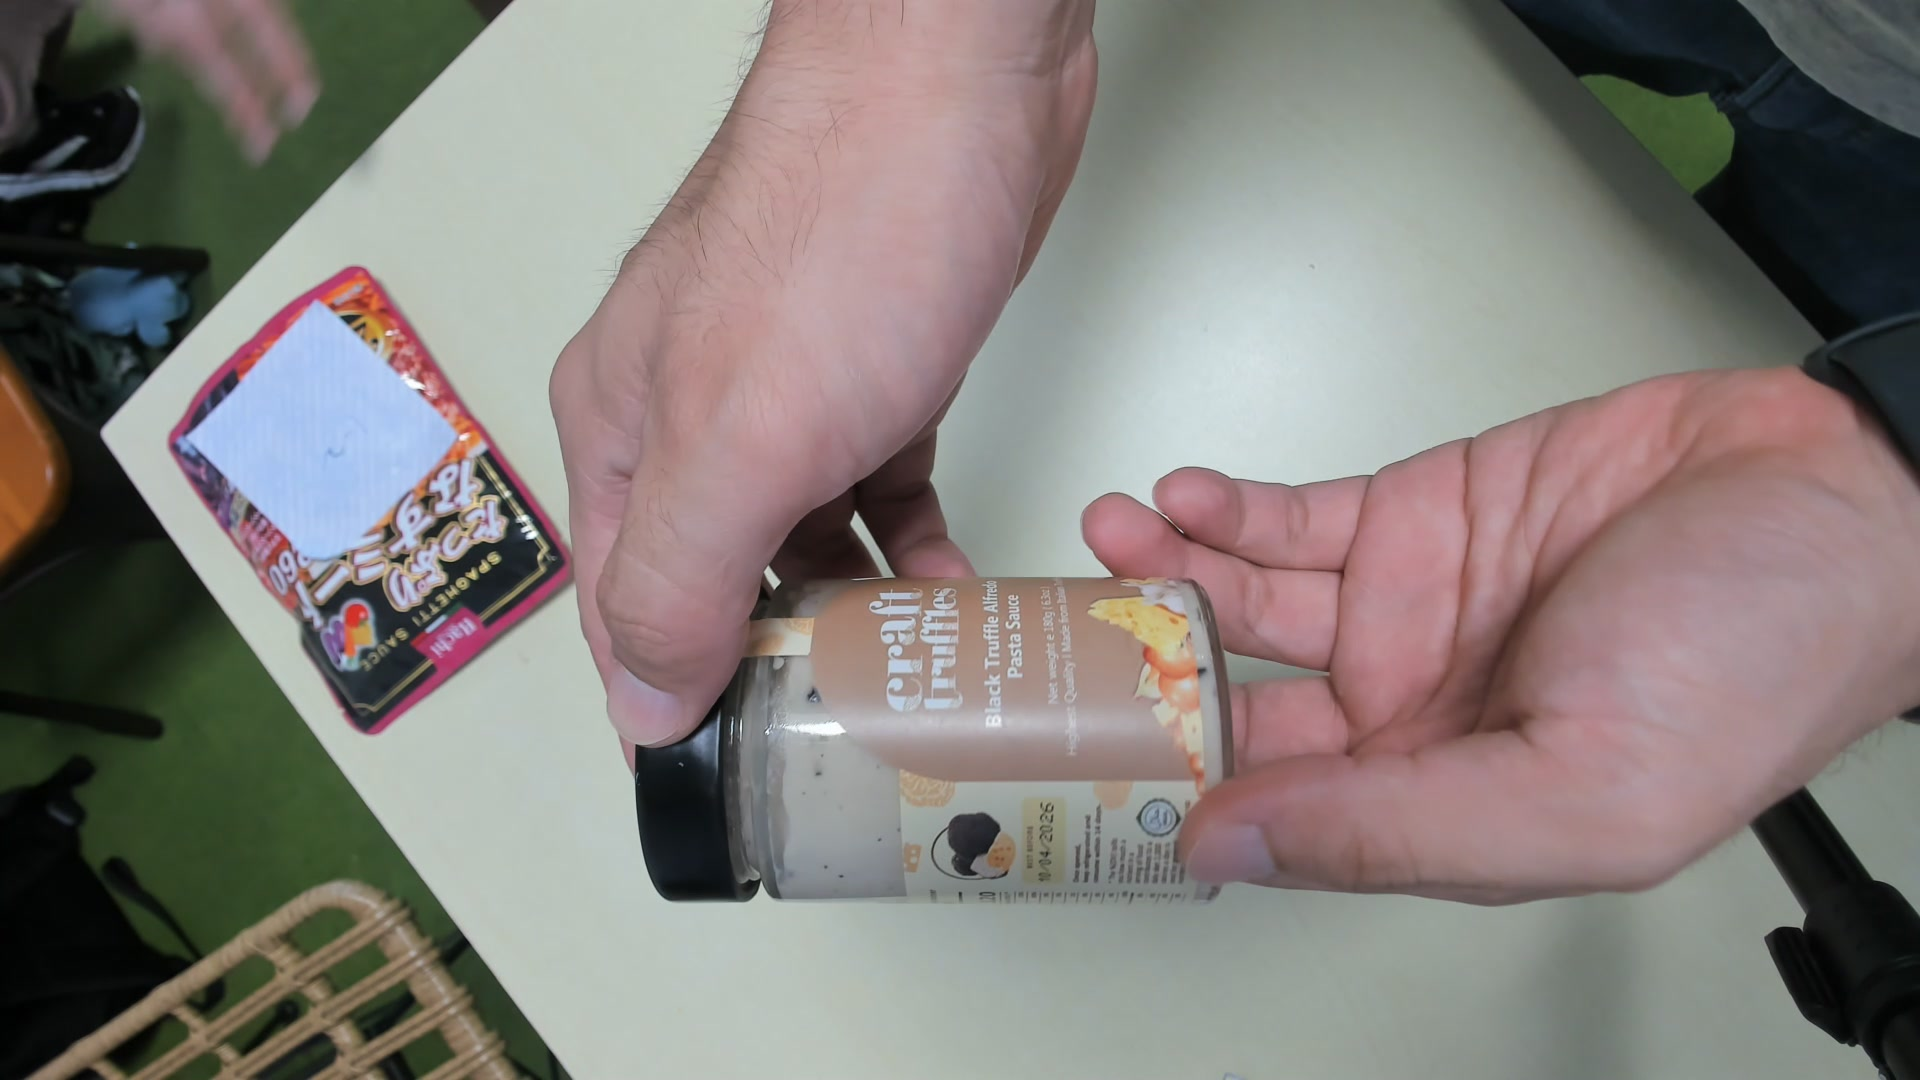PastaSauce_100-199g_Halal_NonHealthy: (638, 575, 1232, 906)
